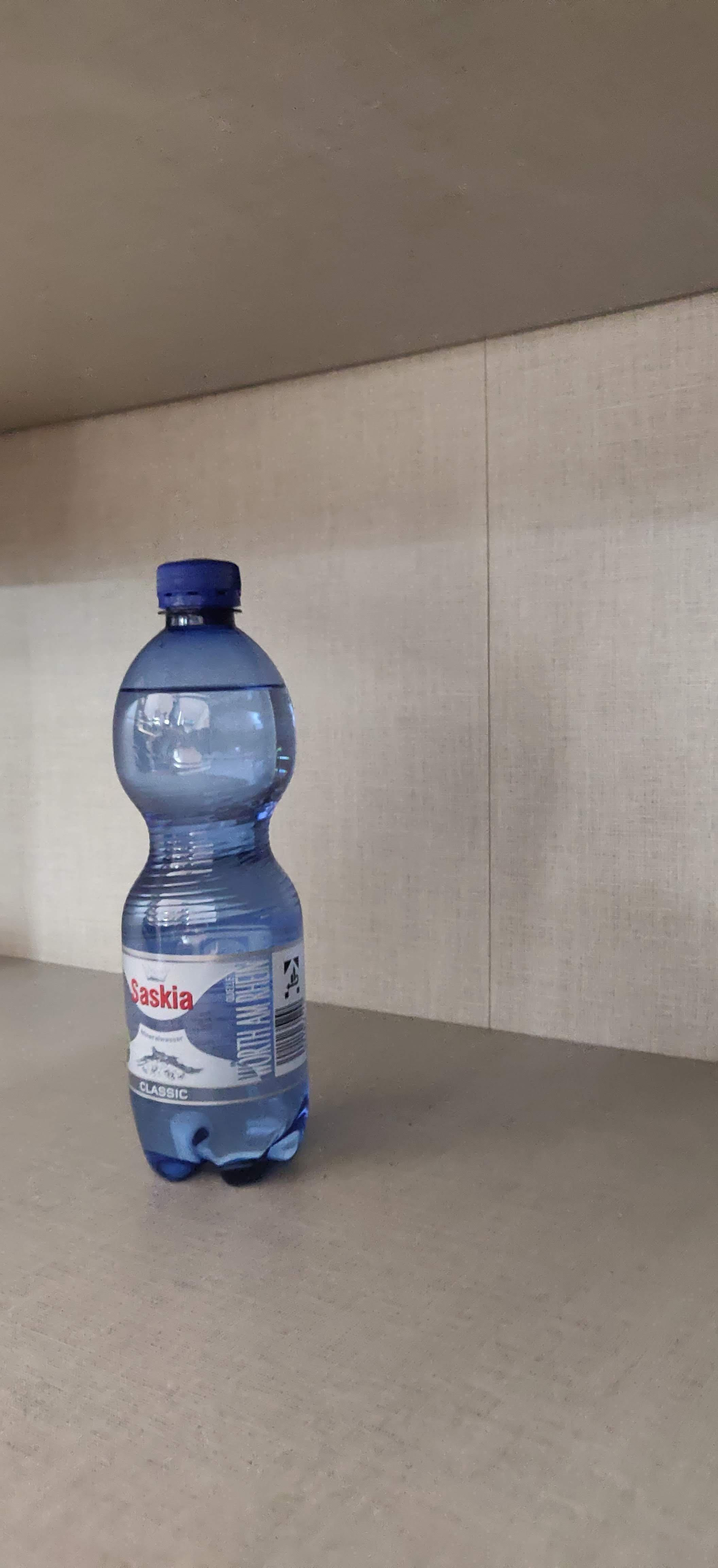bottle-plastic: (109, 553, 319, 1187)
